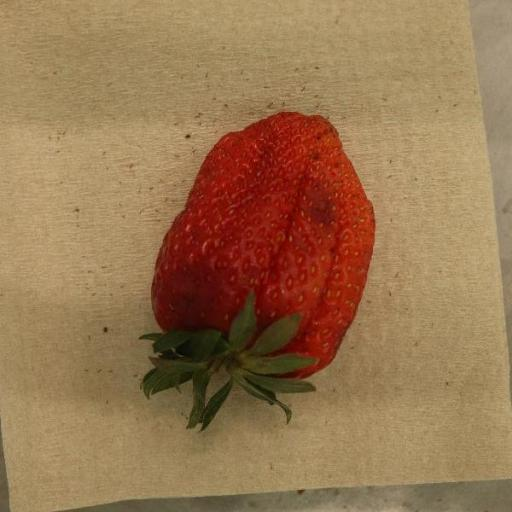Strawberry: (139, 112, 376, 433)
